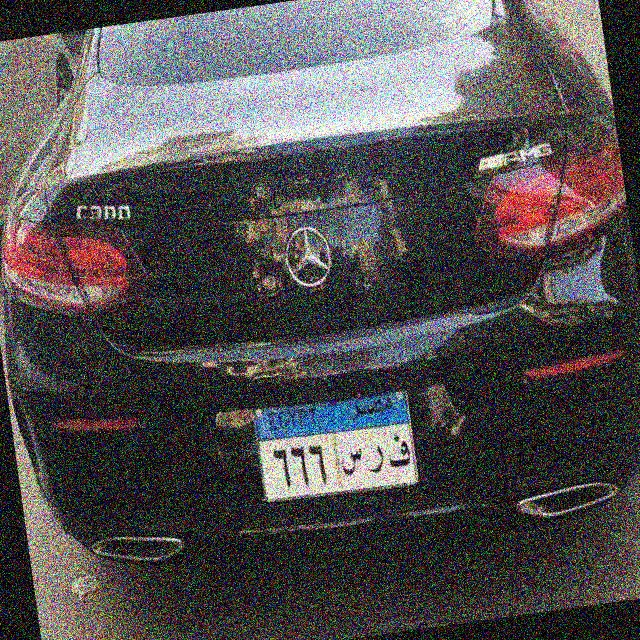License Plate: (248, 384, 424, 511)
